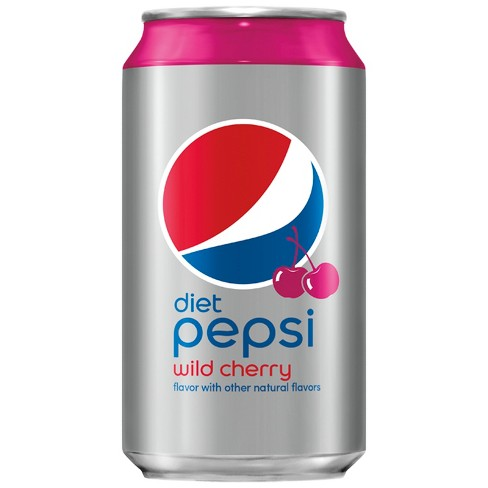pepsi: (156, 117, 330, 289), (160, 117, 330, 289), (160, 117, 323, 289)
